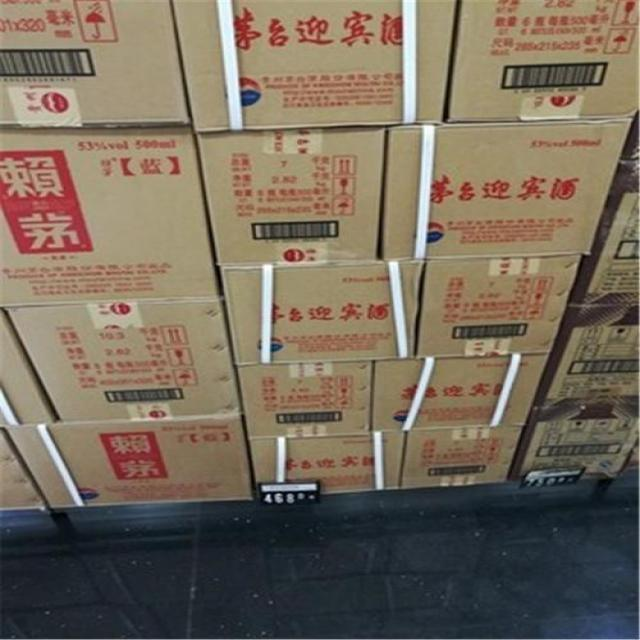box: (0, 127, 233, 313), (178, 0, 462, 132), (379, 114, 640, 257), (10, 289, 239, 422), (4, 409, 261, 520), (0, 0, 200, 140), (201, 127, 392, 264), (436, 0, 640, 121), (226, 250, 414, 361), (419, 254, 586, 364), (368, 351, 555, 429), (229, 353, 387, 433), (239, 426, 405, 502), (518, 401, 639, 481), (547, 309, 640, 402), (398, 427, 518, 490)
